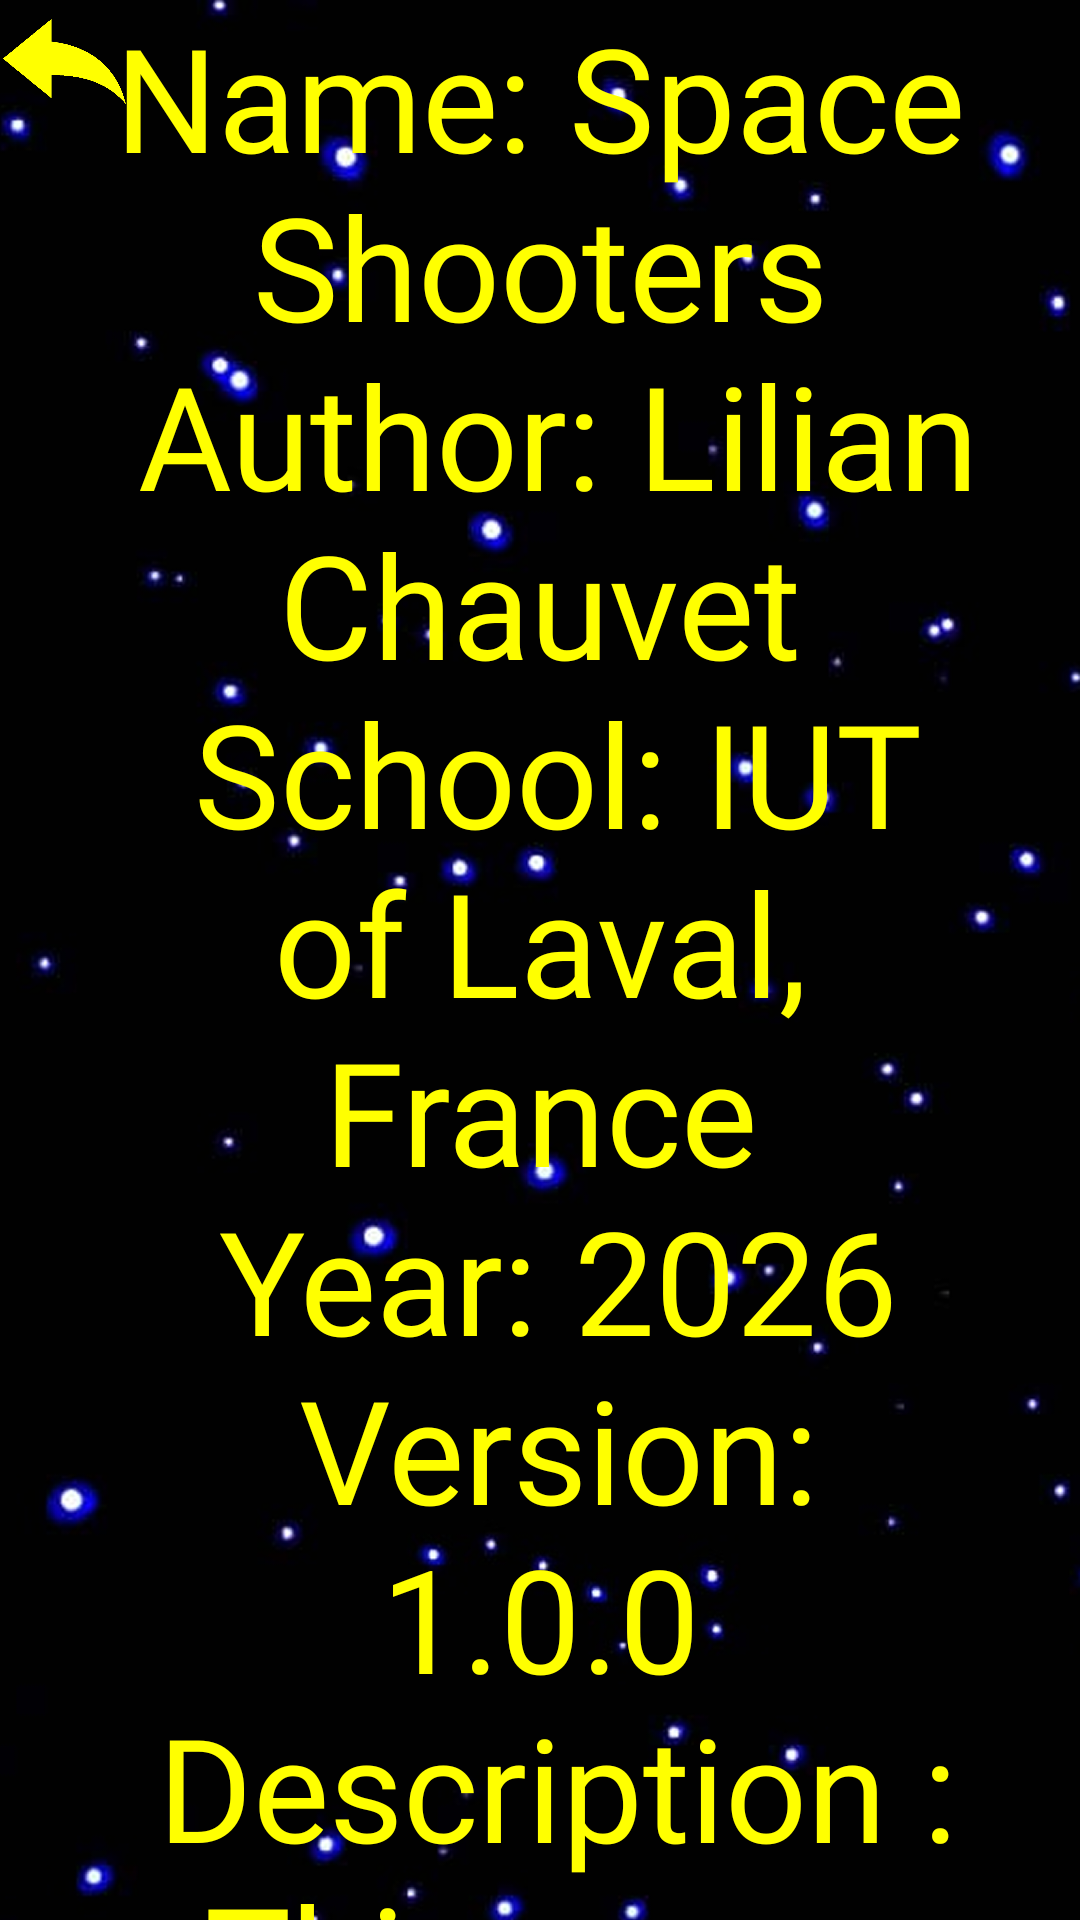

Named icons in this screenshot (1080px×1920px) and their centers, (x=x, y=y):
returnarrow: (x=64, y=61)
